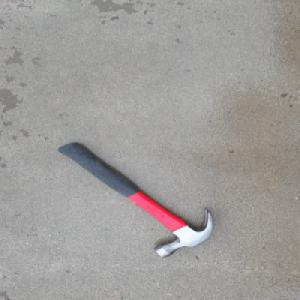Hammer: (54, 140, 215, 268)
